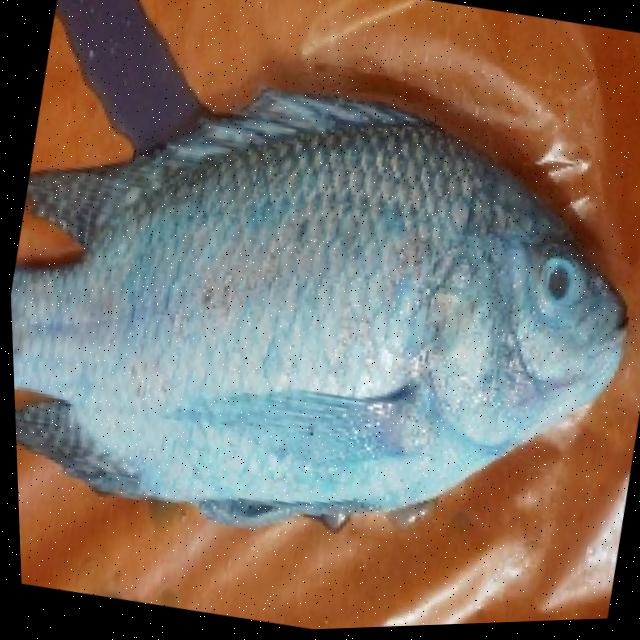Non-Fresh: (2, 40, 640, 546), (499, 224, 603, 339)
